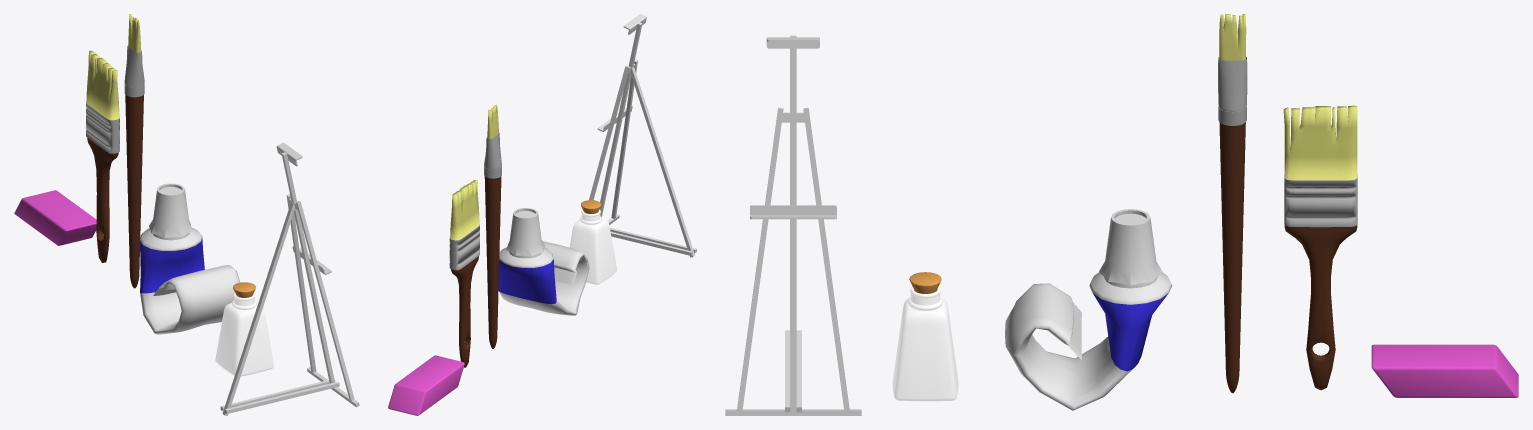
Rendered from artProps.glb.
3 renders of one model, left to right at view 1: azimuth 30°, elevation 25°; view 2: azimuth 150°, elevation 25°; view 3: azimuth 270°, elevation 25°, orthographic. The views are drawn at different scales.
Visible parts, largest first — view 1: Circle.012, Cube.011, Cube.005, brush1, Cube, Cube.007; view 2: Circle.012, Cube.011, Cube.005, brush1, Cube.007, Cube; view 3: Circle.012, Cube.005, Cube.011, brush1, Cube.007, Cube.
Part boxes in pixels (<box>): Circle.012: <box>139,183,240,334</box>; Cube.011: <box>220,143,359,415</box>; Cube.005: <box>86,50,119,262</box>; brush1: <box>124,14,144,288</box>; Cube: <box>215,293,273,376</box>; Cube.007: <box>14,190,96,245</box>; Circle.012: <box>498,208,589,315</box>; Cube.011: <box>589,14,696,257</box>; Cube.005: <box>449,180,479,367</box>; brush1: <box>484,104,501,348</box>; Cube.007: <box>388,355,464,415</box>; Cube: <box>569,209,617,284</box>; Circle.012: <box>1005,209,1172,410</box>; Cube.005: <box>1283,105,1357,390</box>; Cube.011: <box>725,35,861,415</box>; brush1: <box>1218,14,1247,393</box>; Cube.007: <box>1371,344,1518,397</box>; Cube: <box>892,286,958,401</box>.
Size of the model in its own units: 1.03 by 2.36 by 4.48.
